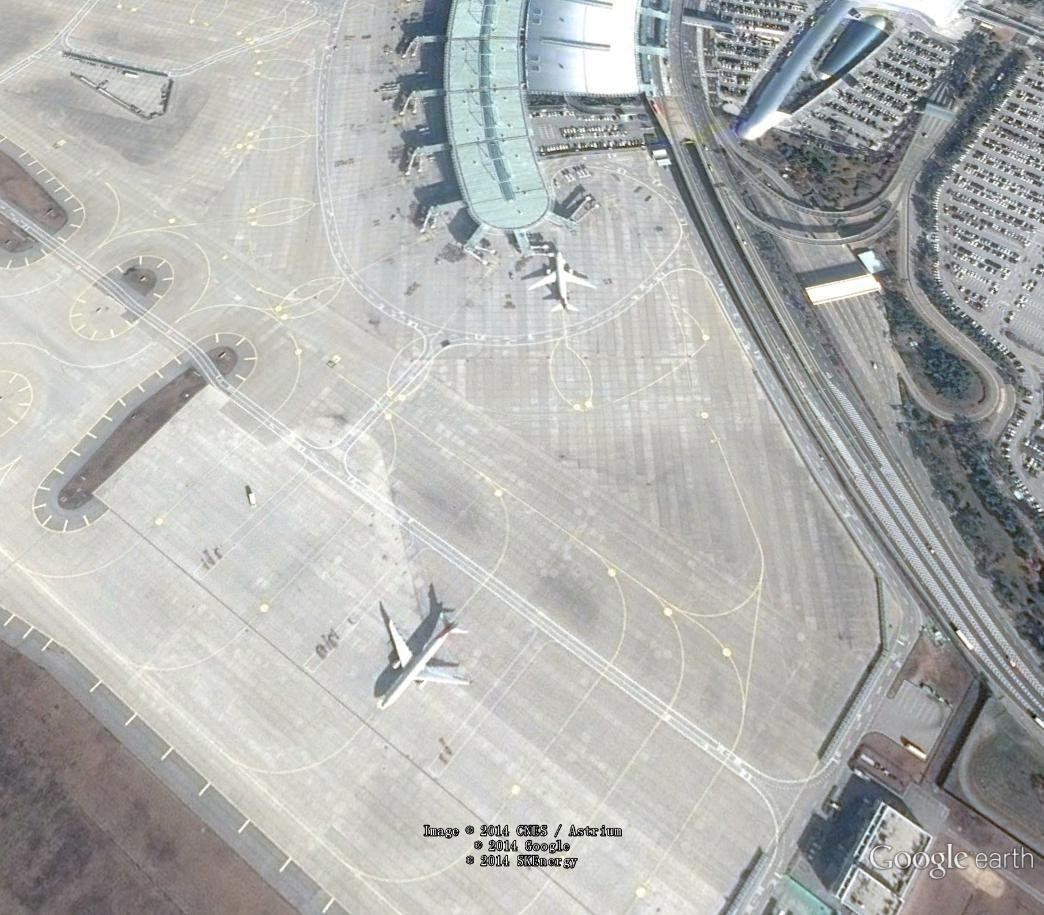aircraft: (379, 613, 477, 711), (525, 246, 601, 318)
